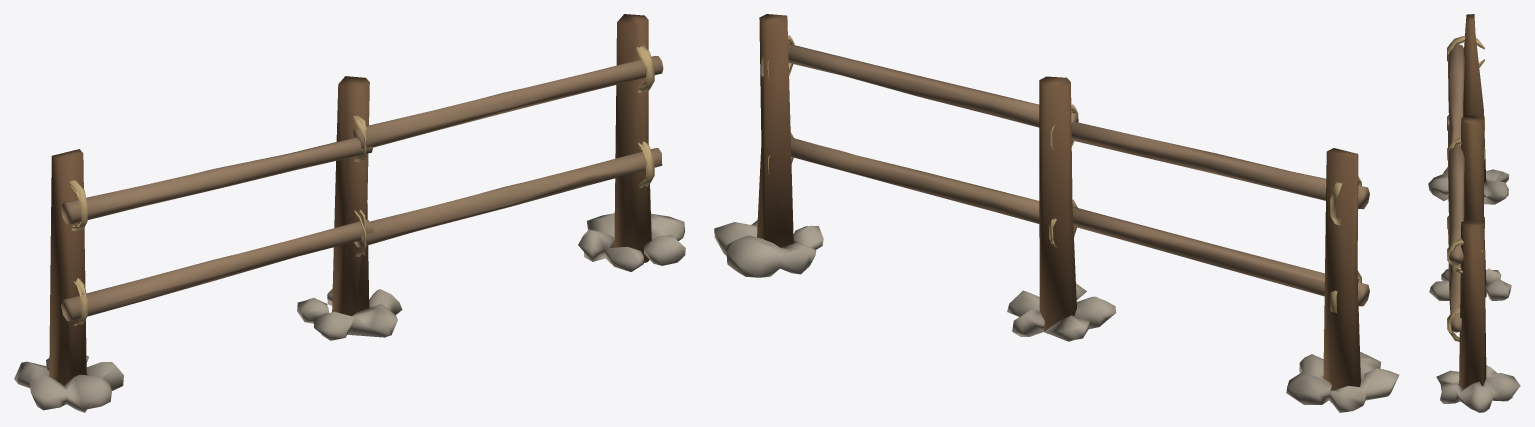
The model's file is country_fence.glb.
The picture shows the model from 3 angles, left to right: view 1: azimuth 30°, elevation 25°; view 2: azimuth 150°, elevation 25°; view 3: azimuth 270°, elevation 25°; orthographic projection. The views are drawn at different scales.
Parts seen in each view (by area): view 1: wood, wood_dark, rock.015, rope; view 2: wood_dark, wood, rock.015, rope; view 3: wood_dark, rock.015, wood, rope.
Part boxes in pixels (bbox=[...]): wood: bbox=[61, 56, 663, 321]; wood_dark: bbox=[49, 14, 651, 384]; rock.015: bbox=[14, 213, 685, 412]; rope: bbox=[70, 45, 654, 325]; wood_dark: bbox=[757, 14, 1360, 402]; wood: bbox=[788, 44, 1369, 306]; rock.015: bbox=[714, 220, 1399, 412]; rope: bbox=[761, 35, 1361, 313]; wood_dark: bbox=[1459, 14, 1486, 389]; rock.015: bbox=[1428, 167, 1520, 412]; wood: bbox=[1447, 44, 1464, 332]; rope: bbox=[1447, 35, 1484, 341].
Bounding box in the file's own units: 3.53 × 1.25 × 0.5816.
